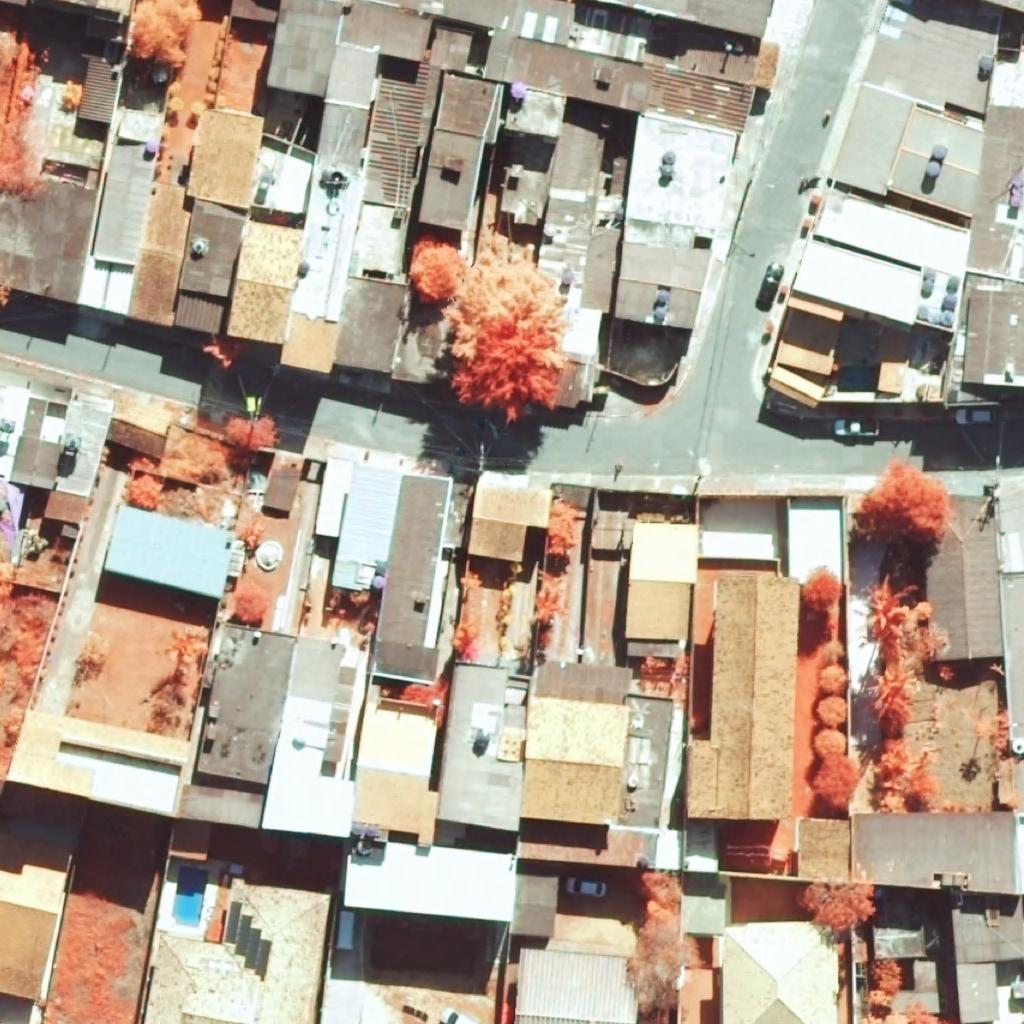pool: (172, 866, 208, 927)
